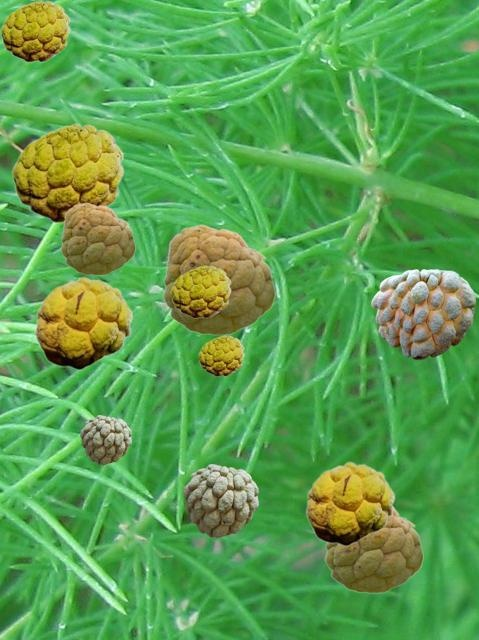atis: (162, 224, 274, 334), (11, 123, 123, 222), (371, 269, 474, 358), (34, 276, 132, 369), (324, 506, 422, 592), (305, 461, 394, 545), (183, 464, 257, 536), (60, 202, 134, 274), (0, 0, 69, 61), (170, 265, 230, 317), (80, 415, 130, 463), (198, 335, 243, 375)
